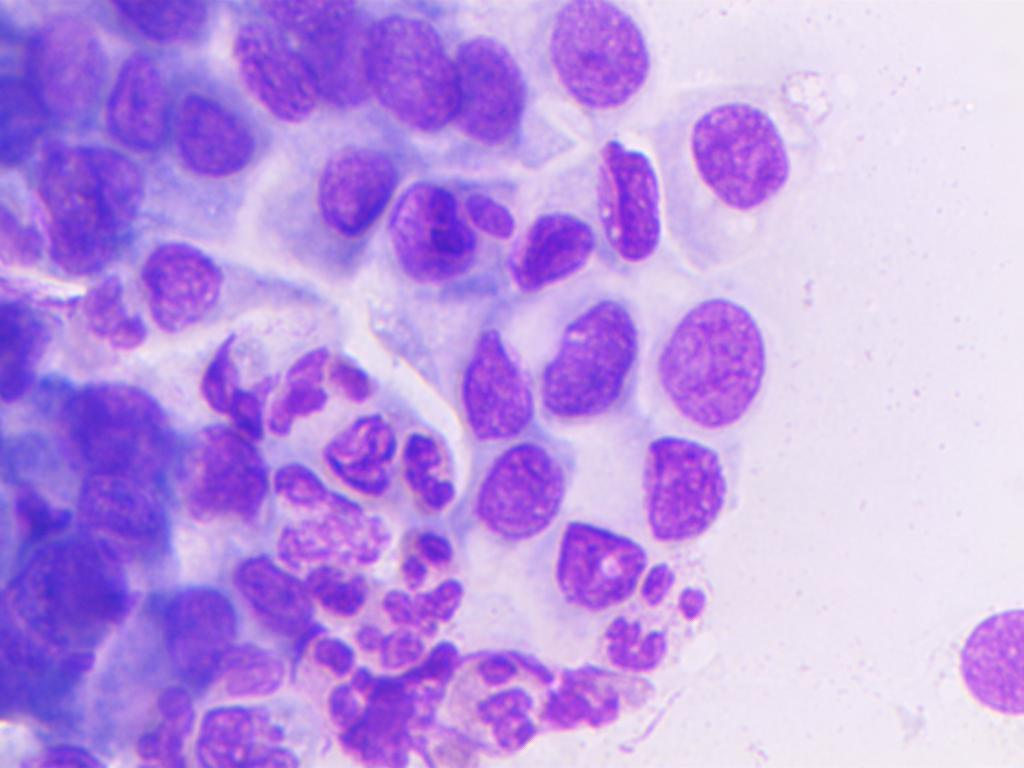epithelial: (655, 82, 821, 276), (646, 289, 794, 436), (6, 528, 150, 654), (526, 281, 650, 427), (12, 138, 151, 263), (628, 429, 779, 540), (55, 377, 180, 497), (582, 136, 682, 280), (358, 0, 459, 142), (540, 3, 655, 120), (63, 454, 181, 565), (387, 180, 517, 280), (13, 9, 112, 137), (168, 87, 265, 213), (174, 420, 283, 528), (144, 578, 245, 690), (953, 594, 1024, 751), (450, 328, 541, 450), (132, 239, 241, 336), (555, 506, 647, 619), (457, 434, 561, 531), (229, 24, 325, 128), (219, 549, 320, 642), (460, 27, 531, 155), (106, 47, 180, 154), (504, 205, 590, 293), (116, 0, 217, 40)
goblet_cell: (269, 134, 403, 265)
metaplastic: (0, 293, 64, 404)
neutrophil: (270, 324, 381, 450), (597, 561, 726, 667), (354, 566, 477, 675), (280, 614, 381, 744), (443, 653, 558, 761), (148, 699, 310, 768), (184, 328, 271, 444), (528, 661, 666, 734), (316, 398, 400, 503), (68, 270, 153, 353), (383, 515, 475, 587), (397, 421, 461, 518)
